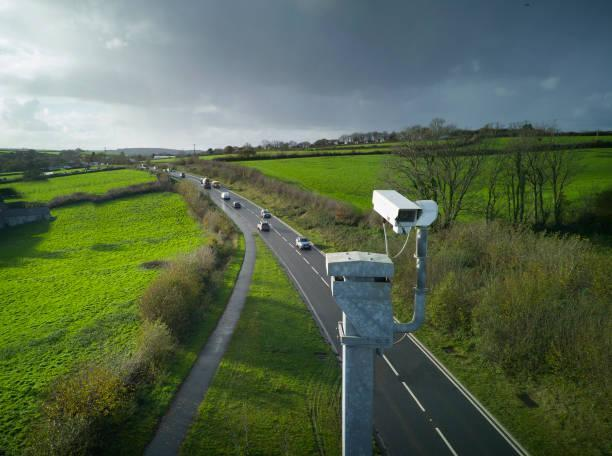camera: (369, 176, 444, 244)
